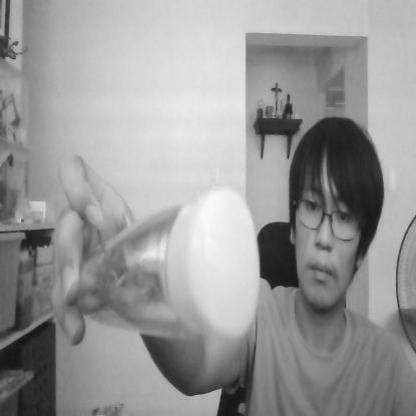Plastic Bottle: (67, 191, 261, 349)
